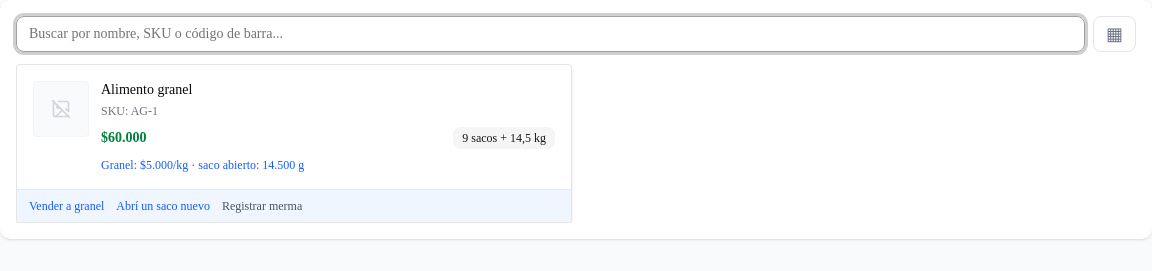
Test: SearchProductos — venta a granel (input de gramos) › GR-U-08: el precio se previsualiza mientras se escriben los gramos
The width and height of the screenshot is (1152, 271).
Click the button "Vender a granel".
click(67, 206)  # box [29,198,104,214]
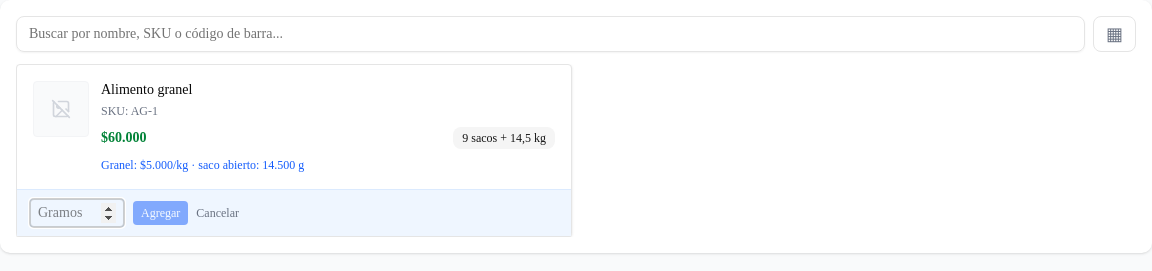
Type "500" into the number field with placeholder "Gramos".
click(77, 212); type("500")  # box [29,198,125,228]
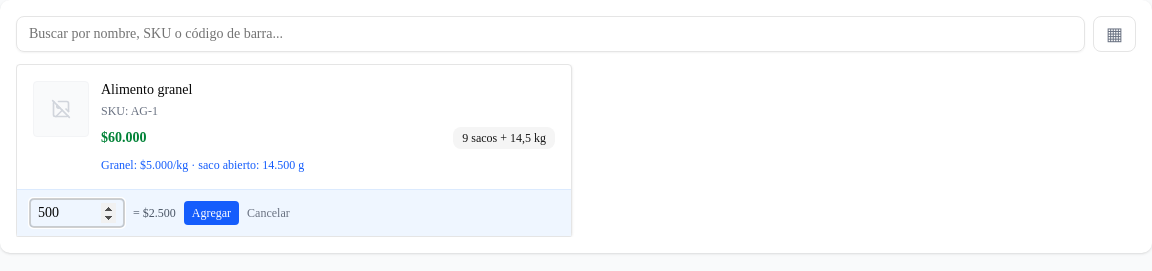
Check: the text "= $2.500" is shown, box [133,204,176,220]
